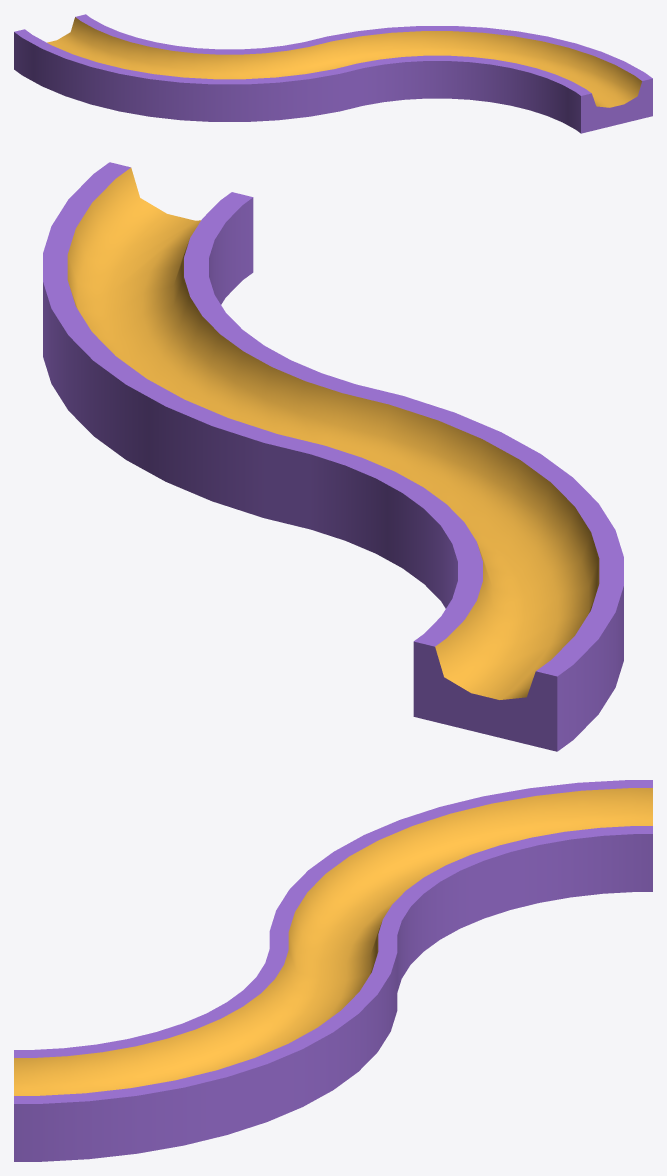
Rendered from s-curve-left-large.glb.
3 renders of one model, top to bottom at view 1: azimuth 30°, elevation 25°; view 2: azimuth 150°, elevation 25°; view 3: azimuth 270°, elevation 25°, orthographic. The views are drawn at different scales.
Parts seen in each view (by area): view 1: s-curve-left-large; view 2: s-curve-left-large; view 3: s-curve-left-large.
Part boxes in pixels (x1=…): s-curve-left-large: x1=14, y1=14, x2=652, y2=133; s-curve-left-large: x1=43, y1=162, x2=623, y2=751; s-curve-left-large: x1=14, y1=780, x2=652, y2=1161.
Bounding box in the file's own units: 6 × 0.5003 × 5.
1 material, 1 textured.
